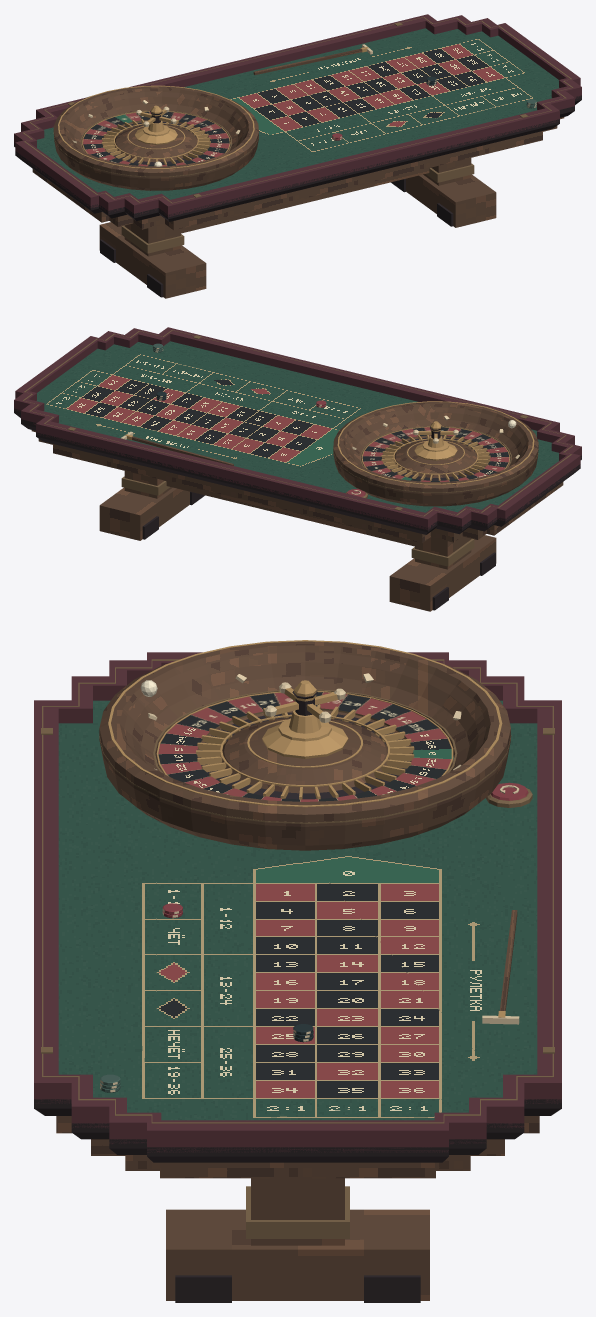
File: roulette.glb
3 renders of one model, top to bottom at view 1: azimuth 30°, elevation 25°; view 2: azimuth 150°, elevation 25°; view 3: azimuth 270°, elevation 25°, orthographic. The views are drawn at different scales.
Visible parts, largest first — view 1: Felt | betting layout, Rail | oxblood leather, Bowl | turned walnut race, Apron | walnut, Apron | ebonised lip, Trestle foot, Trestle foot.001, Rotor | single-zero number ring, Rotor | pocket bed, Rail | single line of brass, Stretcher, Rotor | 37 brass pocket dividers (+7 smaller); view 2: Felt | betting layout, Rail | oxblood leather, Bowl | turned walnut race, Apron | walnut, Apron | ebonised lip, Trestle foot, Trestle foot.001, Rotor | single-zero number ring, Rotor | pocket bed, Rail | single line of brass, Stretcher, Rotor | 37 brass pocket dividers (+7 smaller); view 3: Felt | betting layout, Bowl | turned walnut race, Rail | oxblood leather, Trestle foot.001, Rotor | single-zero number ring, Apron | ebonised lip, Rotor | pocket bed, Apron | walnut, Square column.001, Rotor | 37 brass pocket dividers, Rail | single line of brass, Rotor | spindle pedestal (+9 smaller).
Boxes of the visible parts, <box> form: Felt | betting layout: <box>37,28,559,199</box>; Rail | oxblood leather: <box>14,14,581,217</box>; Bowl | turned walnut race: <box>53,86,258,190</box>; Apron | walnut: <box>32,117,564,230</box>; Apron | ebonised lip: <box>14,95,581,221</box>; Trestle foot: <box>99,222,206,298</box>; Trestle foot.001: <box>406,174,496,227</box>; Rotor | single-zero number ring: <box>83,111,229,166</box>; Rotor | pocket bed: <box>82,120,230,165</box>; Rail | single line of brass: <box>23,17,573,203</box>; Stretcher: <box>181,167,430,233</box>; Rotor | 37 brass pocket dividers: <box>101,118,210,165</box>; Felt | betting layout: <box>36,341,558,512</box>; Rail | oxblood leather: <box>14,327,581,530</box>; Bowl | turned walnut race: <box>333,402,538,506</box>; Apron | walnut: <box>31,430,563,543</box>; Apron | ebonised lip: <box>14,408,581,534</box>; Trestle foot: <box>389,535,496,611</box>; Trestle foot.001: <box>99,487,189,540</box>; Rotor | single-zero number ring: <box>362,427,509,481</box>; Rotor | pocket bed: <box>361,436,510,480</box>; Rail | single line of brass: <box>22,330,572,516</box>; Stretcher: <box>165,480,414,546</box>; Rotor | 37 brass pocket dividers: <box>381,435,490,480</box>; Felt | betting layout: <box>58,700,537,1120</box>; Bowl | turned walnut race: <box>99,641,510,850</box>; Rail | oxblood leather: <box>34,652,561,1152</box>; Trestle foot.001: <box>166,1209,429,1300</box>; Rotor | single-zero number ring: <box>158,692,451,801</box>; Apron | ebonised lip: <box>34,1099,561,1162</box>; Rotor | pocket bed: <box>156,710,453,799</box>; Apron | walnut: <box>56,1116,539,1178</box>; Square column.001: <box>251,1178,344,1245</box>; Rotor | 37 brass pocket dividers: <box>196,705,414,799</box>; Rail | single line of brass: <box>42,659,553,1123</box>; Rotor | spindle pedestal: <box>262,710,348,758</box>.
Size of the model in its own units: 3.75 by 1.17 by 1.75.
14 materials, 3 textured.
